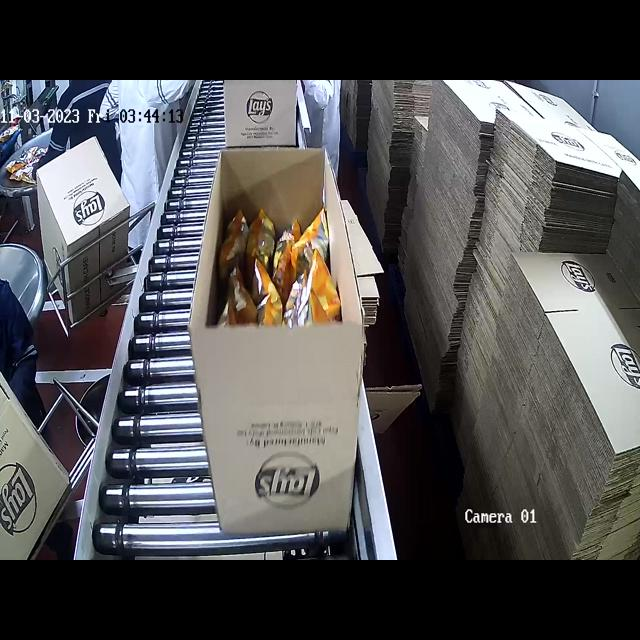cheese: (231, 201, 348, 331)
